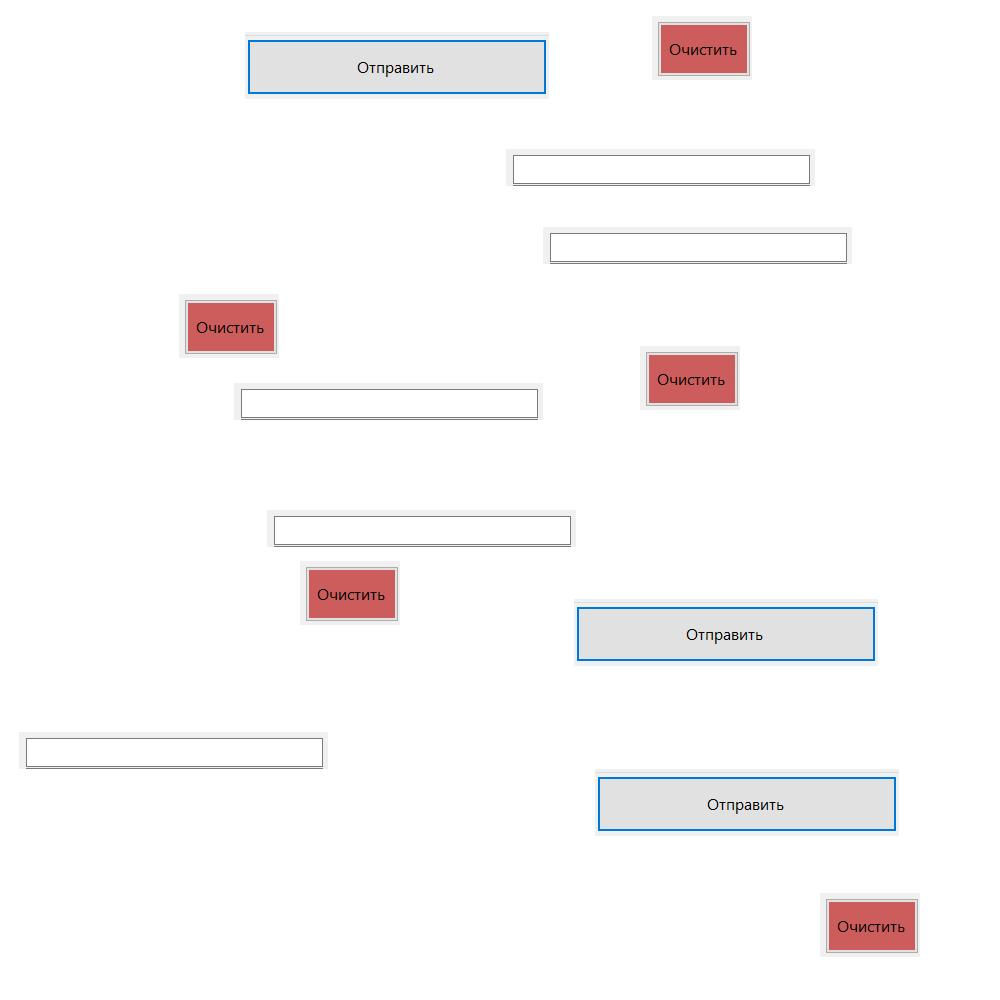Button: (245, 32, 549, 99), (574, 599, 878, 666), (595, 769, 899, 836), (300, 561, 400, 625), (179, 294, 279, 358), (820, 893, 920, 957), (640, 346, 740, 410), (652, 16, 752, 80)
EditText-: (267, 510, 576, 547), (234, 383, 543, 420), (543, 227, 852, 264), (19, 732, 328, 769), (506, 149, 815, 186)
